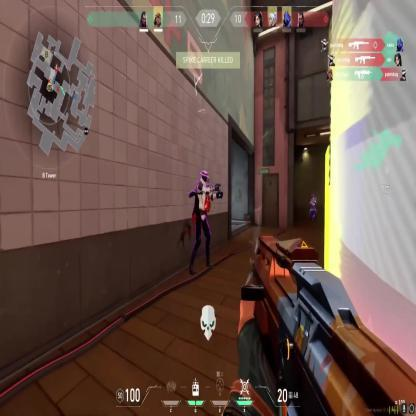enemy: (308, 194, 318, 220)
enemy_head: (199, 168, 209, 186), (312, 193, 314, 200)
